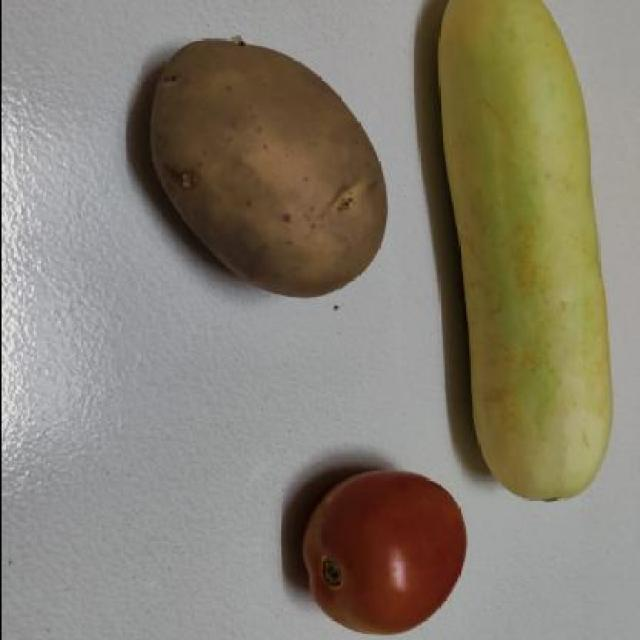potato: (132, 25, 391, 308)
tomato: (286, 464, 467, 640)
